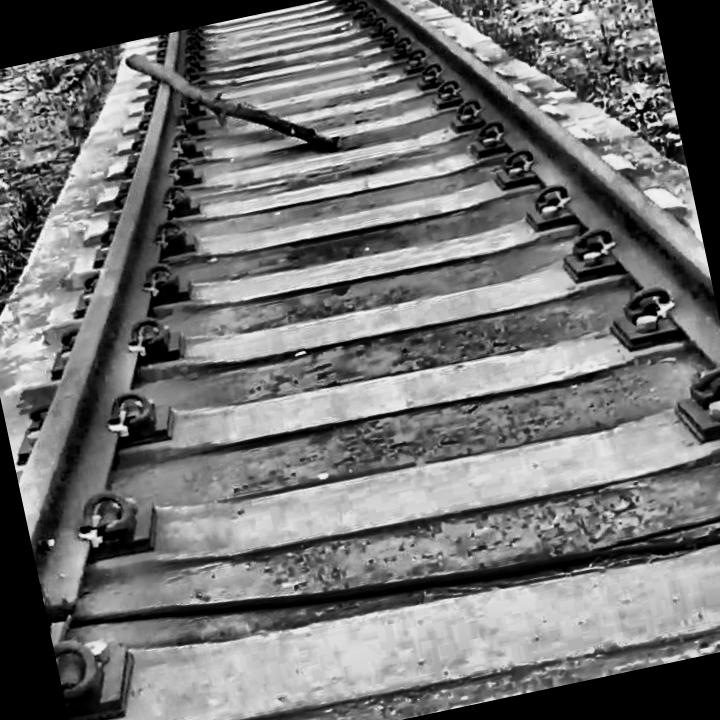Trash: (115, 11, 349, 191)
